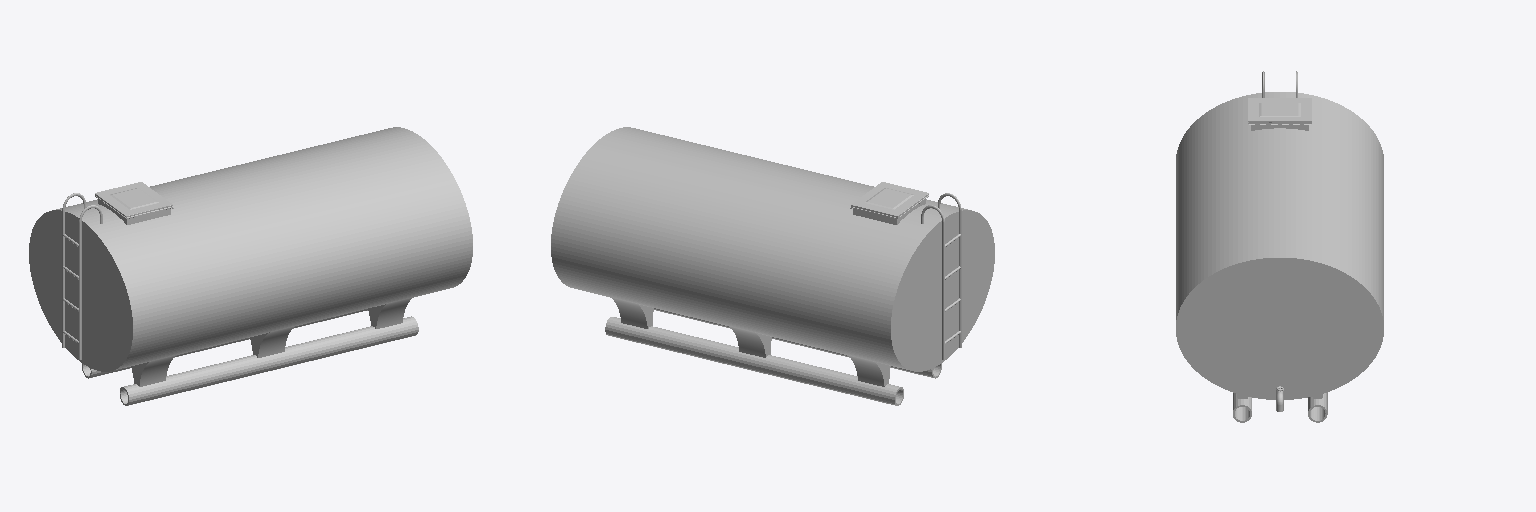
The model's file is tanker obj.obj.
3 renders of one model, left to right at view 1: azimuth 30°, elevation 25°; view 2: azimuth 150°, elevation 25°; view 3: azimuth 270°, elevation 25°, orthographic.
Parts seen in each view (by area): view 1: (null); view 2: (null); view 3: (null).
Part boxes in pixels (x1,y1,x2,y2): (null): (29,127,472,405); (null): (551,127,994,405); (null): (1176,71,1383,422).
Size of the model in its own units: 2266 by 1156 by 1105.